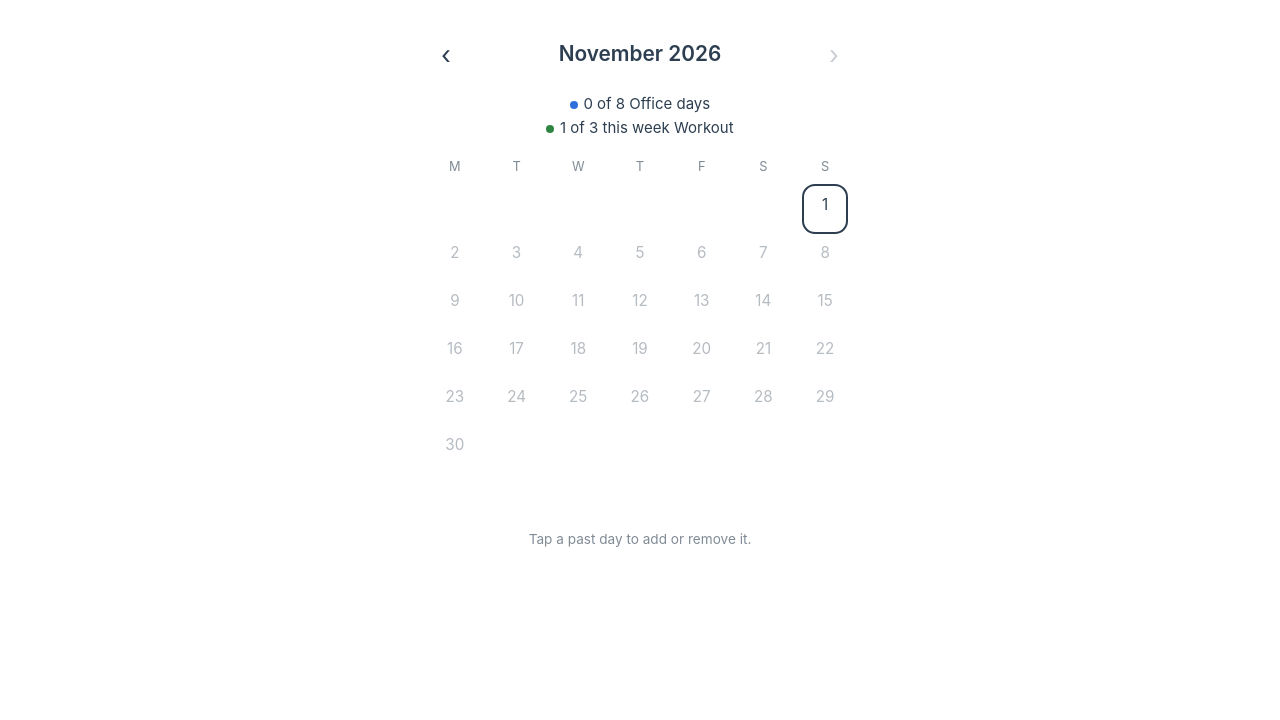
Test: CalendarView › a week that starts in the previous month › updates this week after checking in today from the calendar
The width and height of the screenshot is (1280, 720).
Click the button "1" at {"x": 825, "y": 210}, box [805,188,845,232]
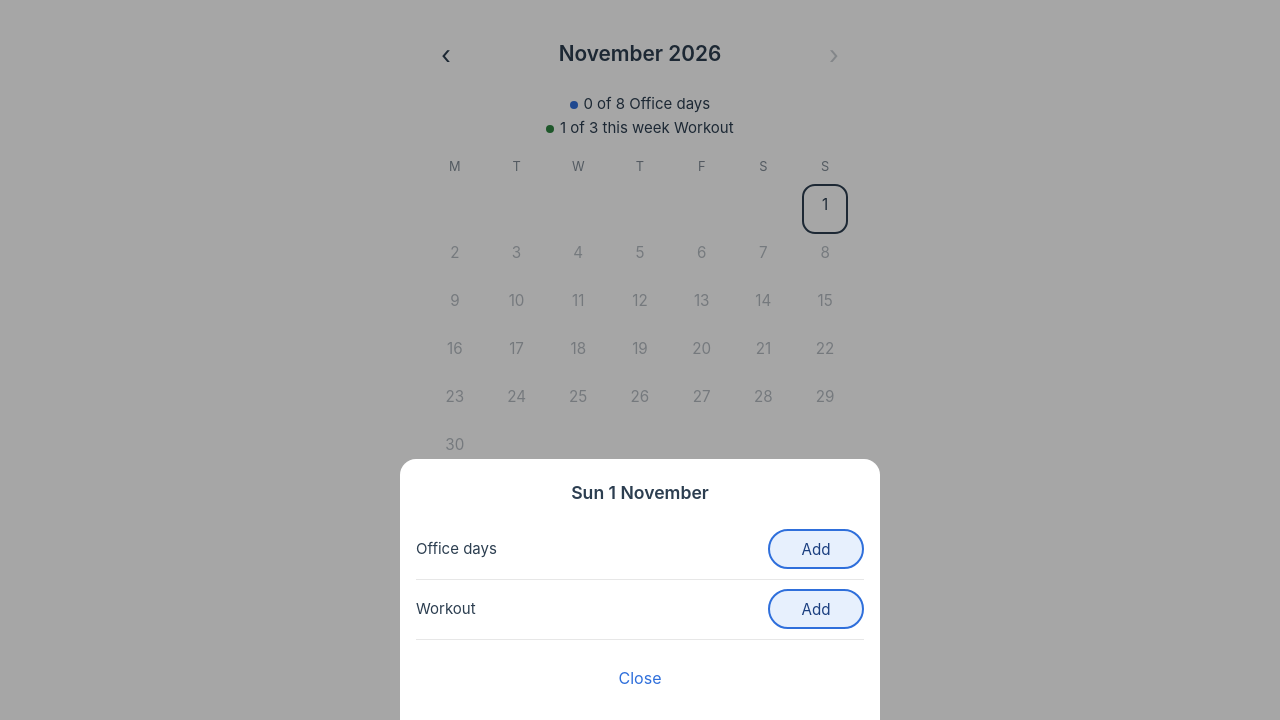
Click the 2nd button with class "add" at {"x": 816, "y": 609}, box [768,589,864,629]
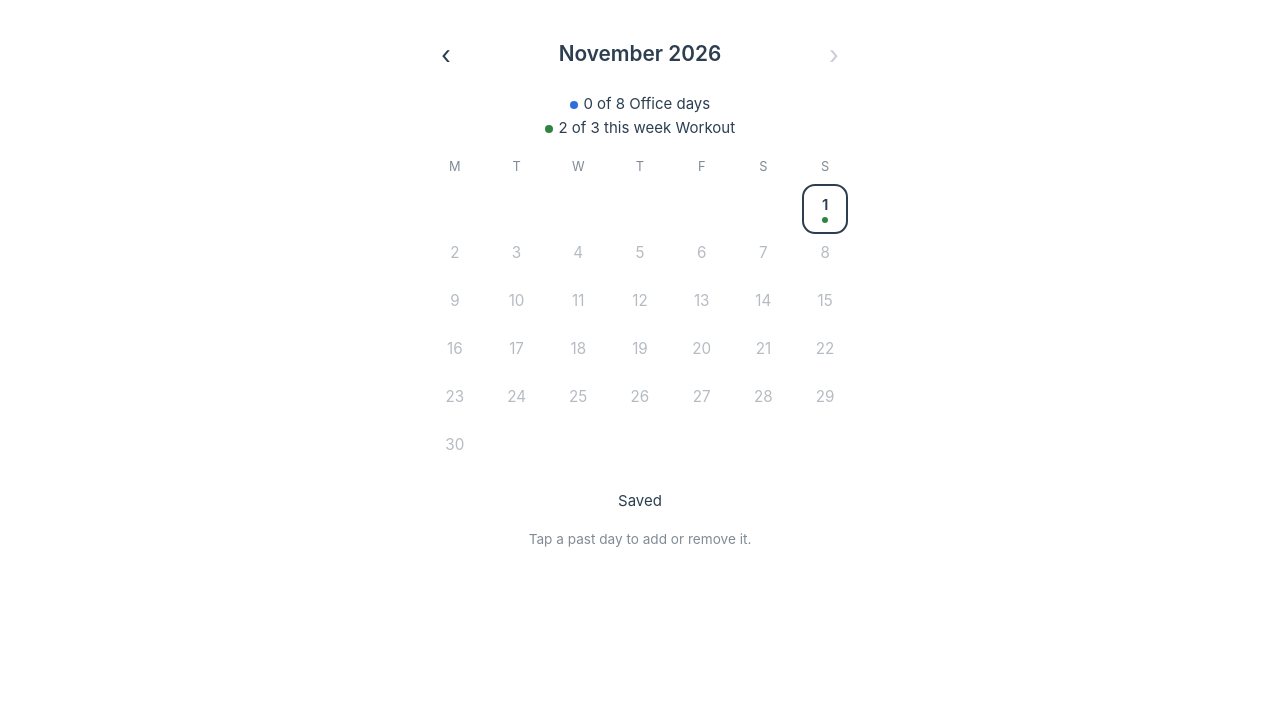
Now the text "2 of 3 this week Workout" is shown, box [545,118,735,137]
